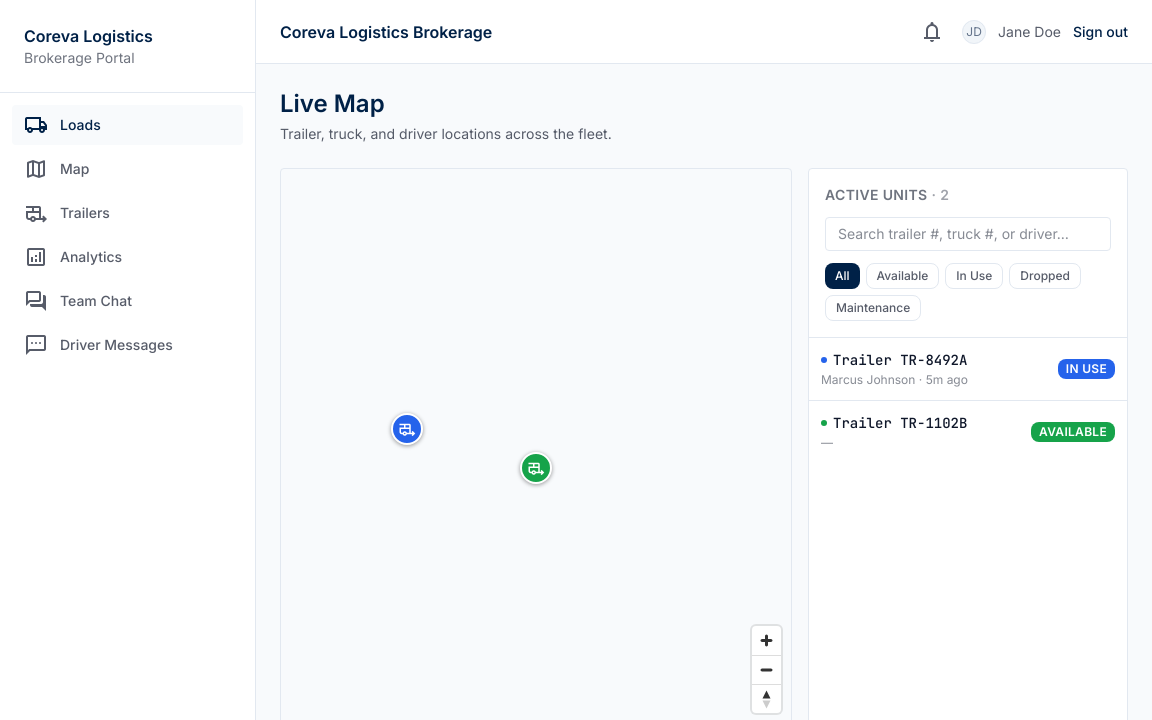
MapView › filters the list by status chip
Check: the text "Trailer TR-8492A" is shown, box [821,350,968,370]
Click the button "Available" at (902, 276), box [866,263,939,289]
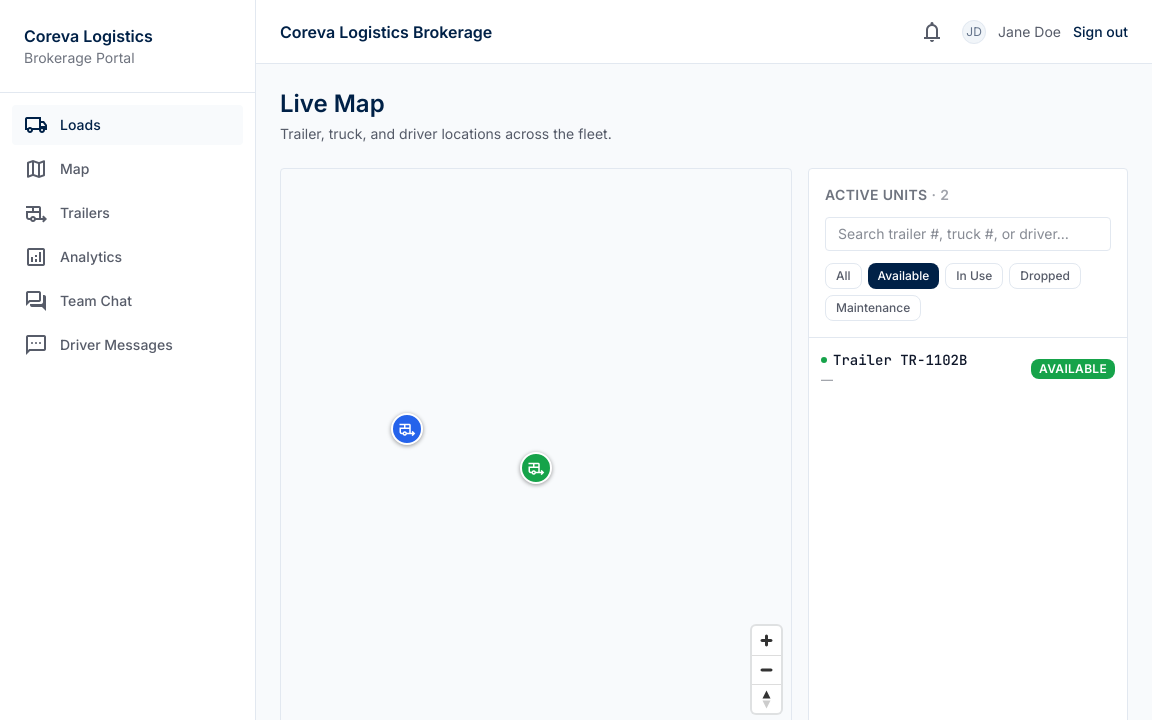
Check: the text "Trailer TR-1102B" is shown, box [821,350,967,370]
Check: the button "Trailer TR-8492A" is gone
